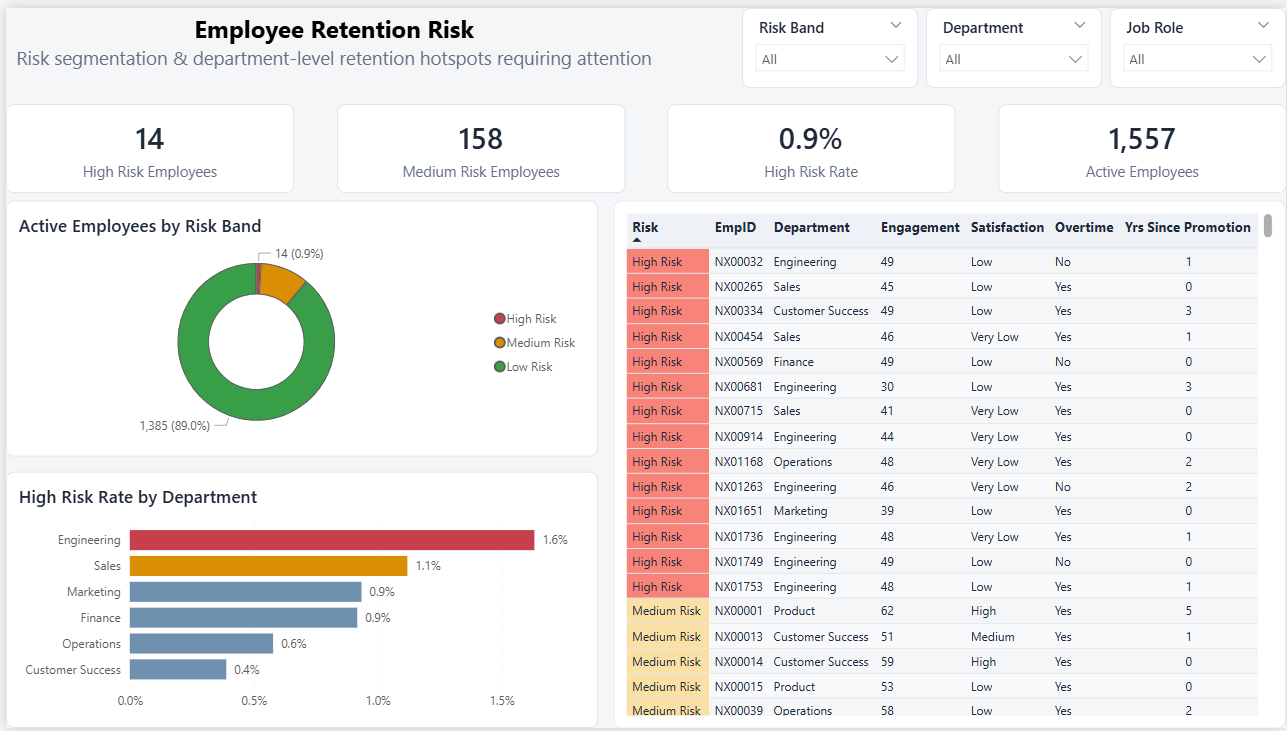

This screenshot's page, from the dashboard's own definition file:
{"tool":"powerbi","page":{"name":"Employee Retention Risk","canvas":[1280,720],"ordinal":2},"visuals":[{"type":"card","fields":{"Values":["_Measures.High Risk Employees"]},"box":[0,96,288,89],"z":0},{"type":"card","fields":{"Values":["_Measures.Medium Risk Employees"]},"box":[330.7,96,288,89],"z":1000},{"type":"card","fields":{"Values":["_Measures.Active Employees"]},"box":[992,96,288,89],"z":2000},{"type":"card","fields":{"Values":["_Measures.High Risk Rate"]},"box":[661.3,96,288,89],"z":3000},{"type":"donutChart","title":"Active Employees by Risk Band","fields":{"Category":["Workforce.Risk Band"],"Y":["_Measures.Active Employees"]},"box":[0,192,592,256],"z":4000},{"type":"barChart","fields":{"Category":["Workforce.Department"],"Y":["_Measures.High Risk Rate"]},"box":[0,464,592,256],"z":5000},{"type":"tableEx","fields":{"Values":["Workforce.Risk Band","Workforce.EmpID","Workforce.Department","Workforce.EngagementScore","Workforce.Job Satisfaction Label","Workforce.OverTime","Workforce.YearsSincePromotion"]},"box":[608,192,672,528],"z":6000},{"type":"textbox","box":[0,0,656,80],"z":7000},{"type":"slicer","fields":{"Values":["Workforce.Risk Band"]},"box":[736,0,176,80],"z":8000},{"type":"slicer","fields":{"Values":["Workforce.Department"]},"box":[920,0,176,80],"z":9000},{"type":"slicer","fields":{"Values":["Workforce.JobRole"]},"box":[1104,0,176,80],"z":10000}]}

Visuals, with their boxes in screenshot pixels (x1, y1, x2, y2), scaled from the page's 1280x720 canvas onto the 1287x731 screenshot:
card - _Measures.High Risk Employees: x1=0 y1=97 x2=290 y2=188
card - _Measures.Medium Risk Employees: x1=333 y1=97 x2=622 y2=188
card - _Measures.Active Employees: x1=997 y1=97 x2=1286 y2=188
card - _Measures.High Risk Rate: x1=665 y1=97 x2=954 y2=188
"Active Employees by Risk Band" donutChart: x1=0 y1=195 x2=595 y2=455
barChart - Workforce.Department x _Measures.High Risk Rate: x1=0 y1=471 x2=595 y2=730
tableEx - Workforce.Risk Band x Workforce.EmpID: x1=611 y1=195 x2=1286 y2=730
textbox: x1=0 y1=0 x2=660 y2=81
slicer - Workforce.Risk Band: x1=740 y1=0 x2=917 y2=81
slicer - Workforce.Department: x1=925 y1=0 x2=1102 y2=81
slicer - Workforce.JobRole: x1=1110 y1=0 x2=1286 y2=81
